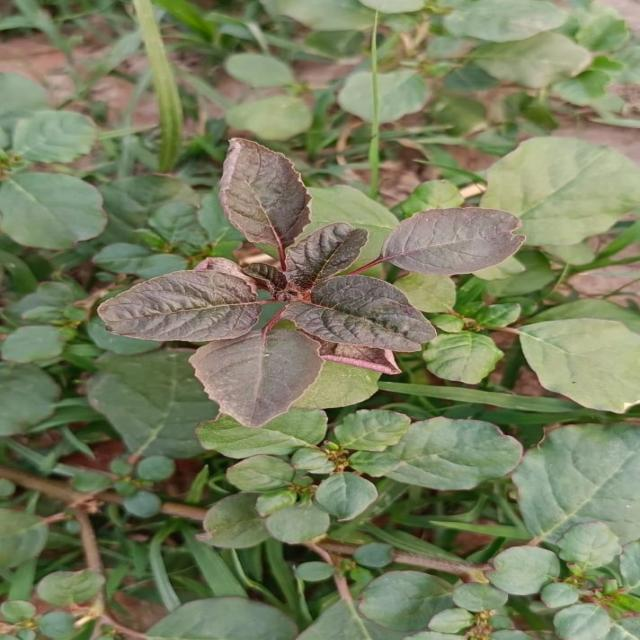plant: (97, 138, 523, 426)
